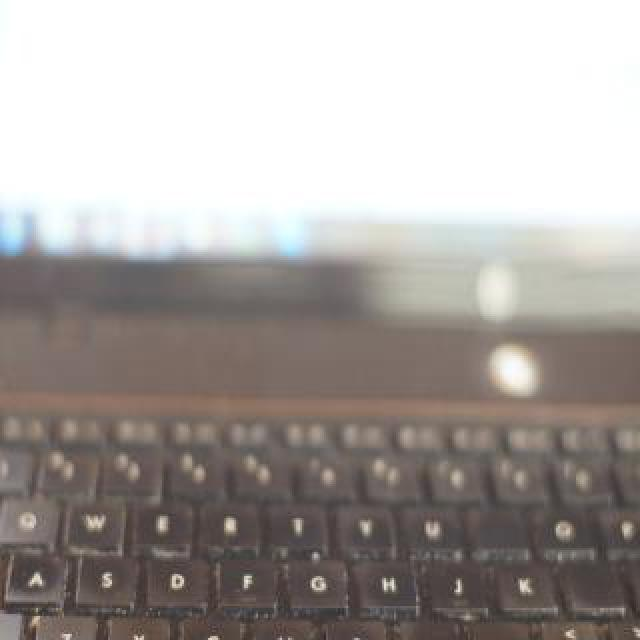laptop_computer: (14, 71, 640, 640)
